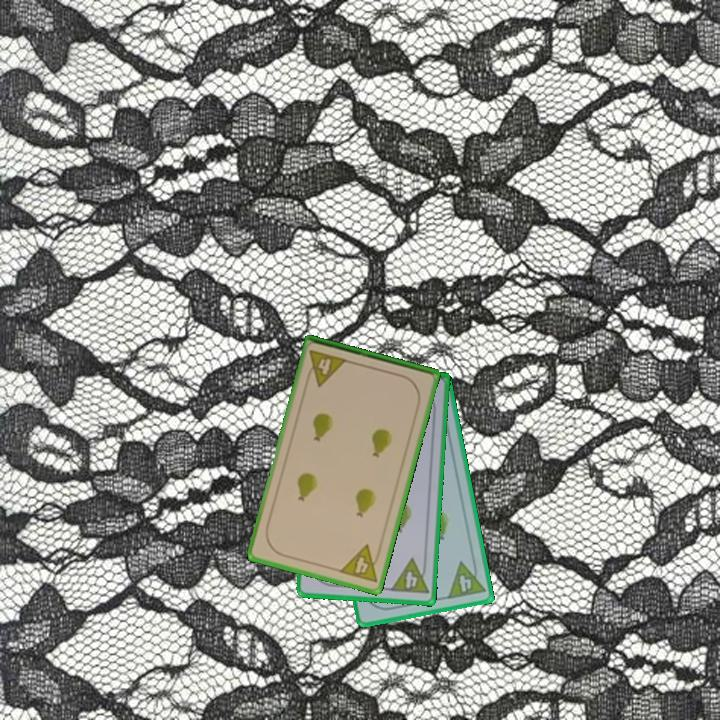4p: (336, 541, 384, 586), (444, 556, 488, 602), (302, 347, 350, 389), (387, 555, 431, 597)
